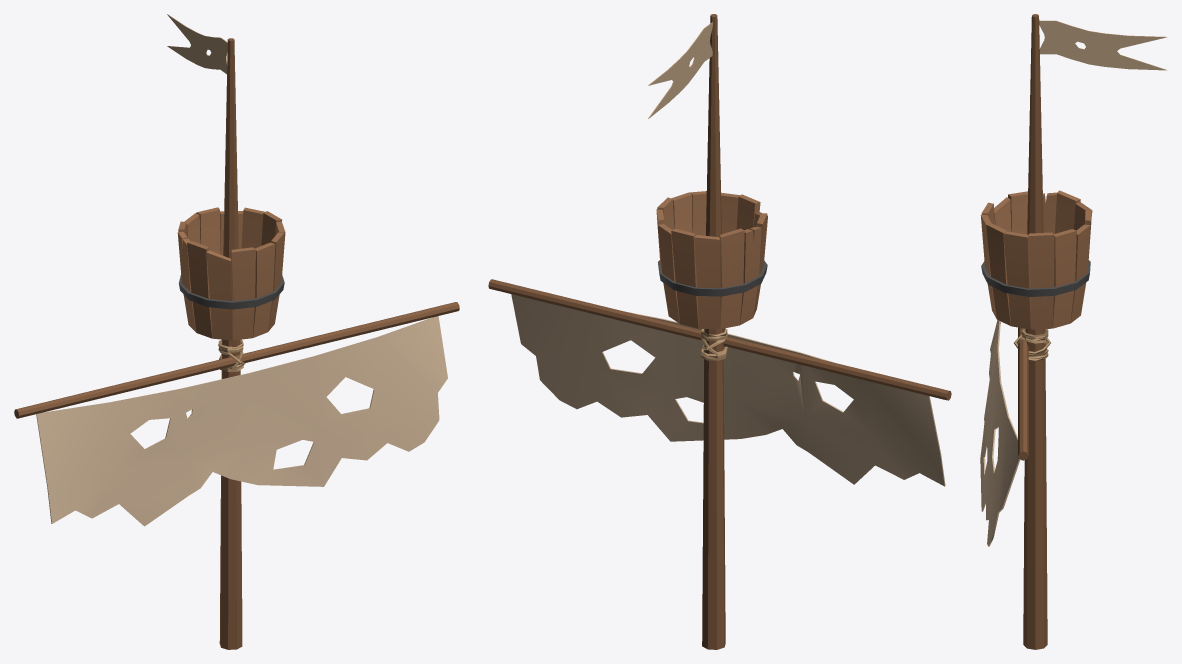
Rendered from ShipPart_03.fbx.
The picture shows the model from 3 angles, left to right: view 1: azimuth 30°, elevation 25°; view 2: azimuth 150°, elevation 25°; view 3: azimuth 270°, elevation 25°; orthographic projection. The views are drawn at different scales.
Visible parts, largest first — view 1: ShipPart_03_LOD0; view 2: ShipPart_03_LOD0; view 3: ShipPart_03_LOD0.
Part boxes in pixels (left/top/right/bottom): ShipPart_03_LOD0: left=14, top=14, right=459, bottom=649; ShipPart_03_LOD0: left=488, top=14, right=951, bottom=649; ShipPart_03_LOD0: left=980, top=14, right=1167, bottom=649.
Size of what is drawn, in the model's own units: 3.57 by 4.68 by 1.26.
